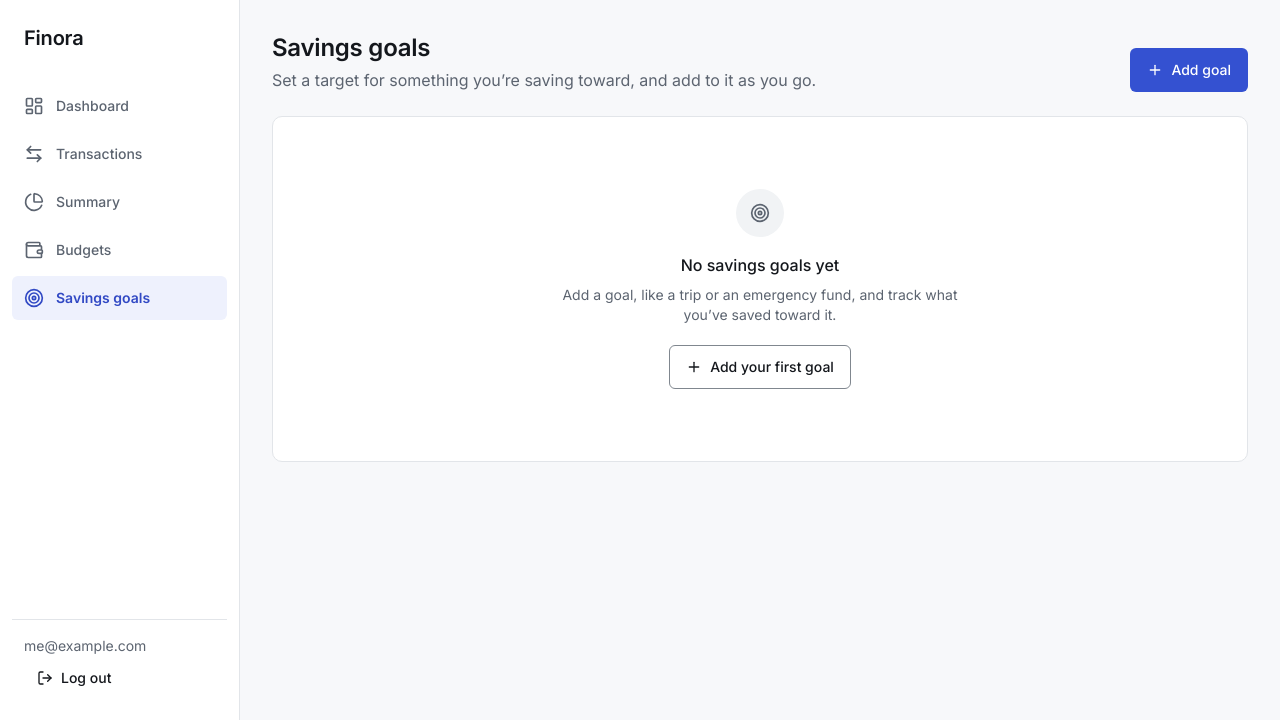
Test: the goals page › shows an empty state with a way to add the first goal
Expected: the text "No savings goals yet" is shown, [681,253,839,277]
Click the button "Add your first goal".
click(760, 367)  # box [669,345,851,389]
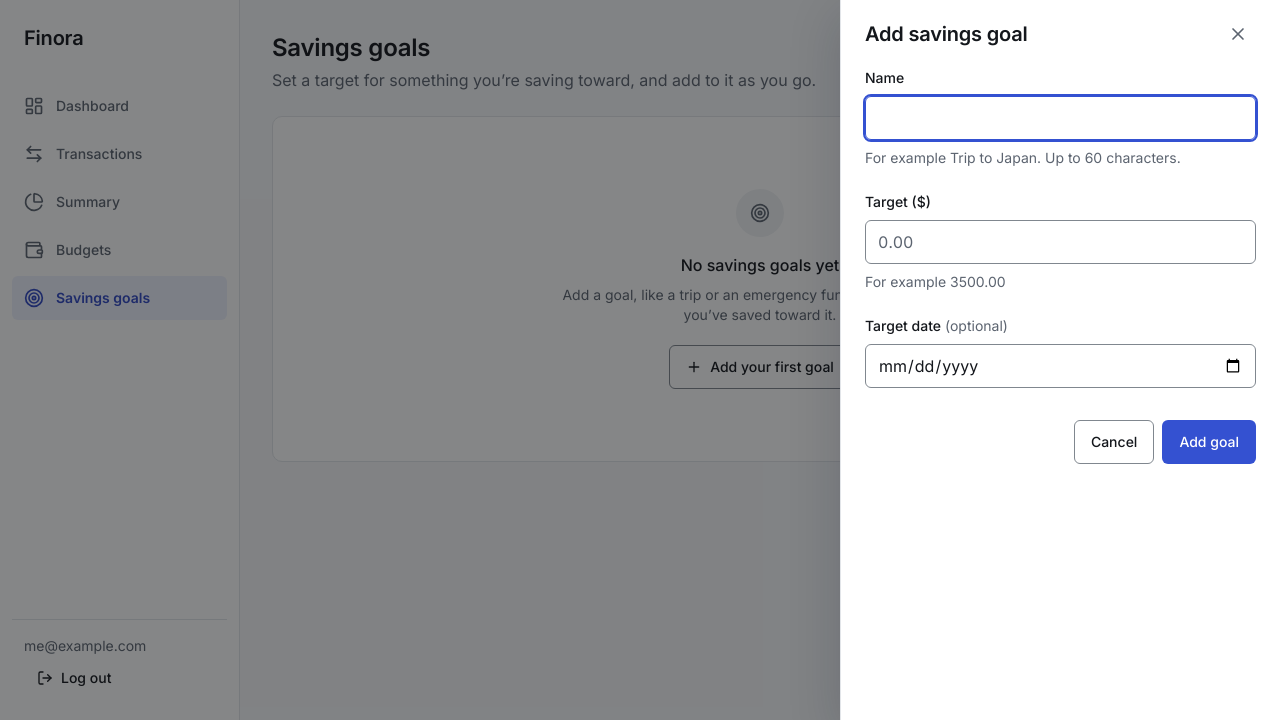
Expected: the dialog "Add savings goal" is shown, [840,0,1279,719]
